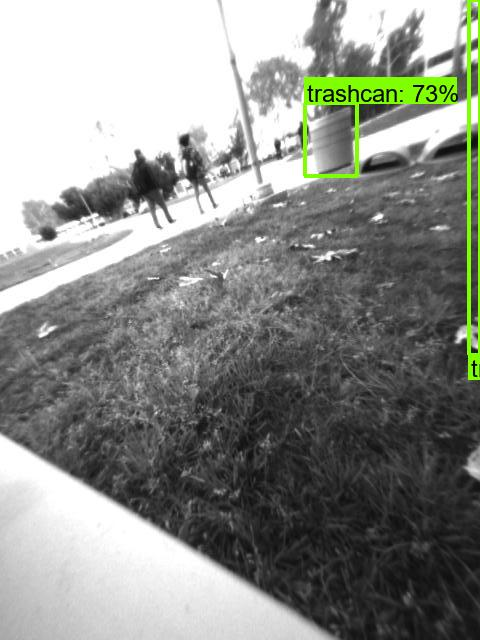trashcan: (308, 104, 357, 175)
